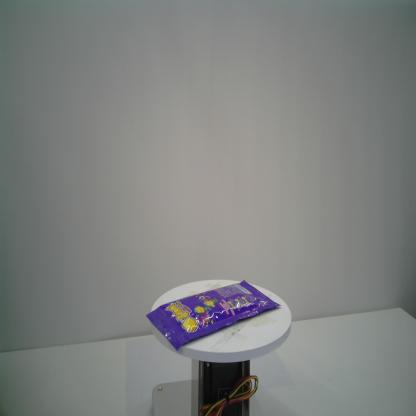Candy: (146, 279, 282, 352)
